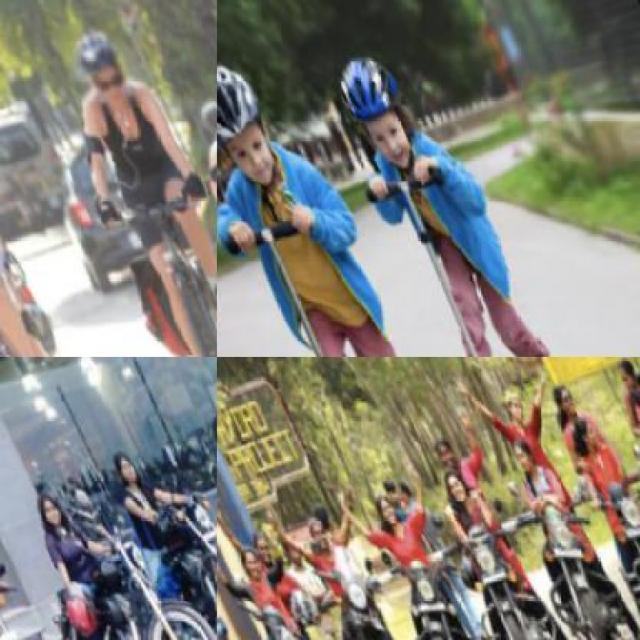With Helmet: (317, 41, 429, 179), (217, 45, 297, 209), (46, 5, 156, 121), (184, 88, 216, 142)
Without Helmet: (19, 477, 67, 534), (99, 435, 144, 487), (563, 404, 605, 456), (362, 484, 406, 533), (428, 457, 468, 508), (297, 509, 332, 560), (227, 542, 264, 588), (504, 436, 536, 475), (618, 372, 638, 426)
